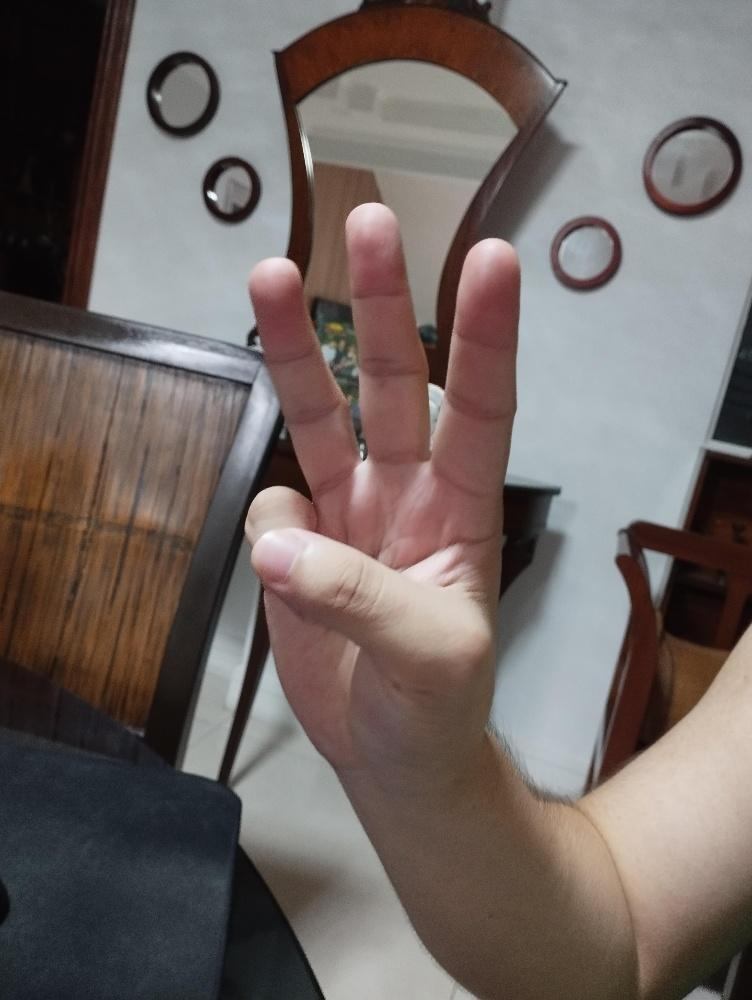w: (240, 197, 526, 760)
